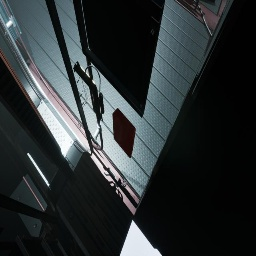EmergencyPhone ,: (73, 61, 105, 124)
FireAlarm ,: (112, 108, 136, 158)
